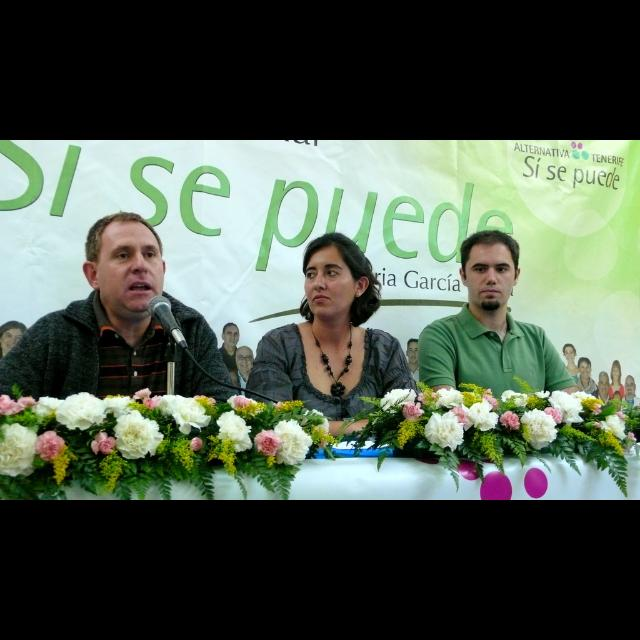Flower: (0, 386, 330, 480), (378, 386, 640, 454)
